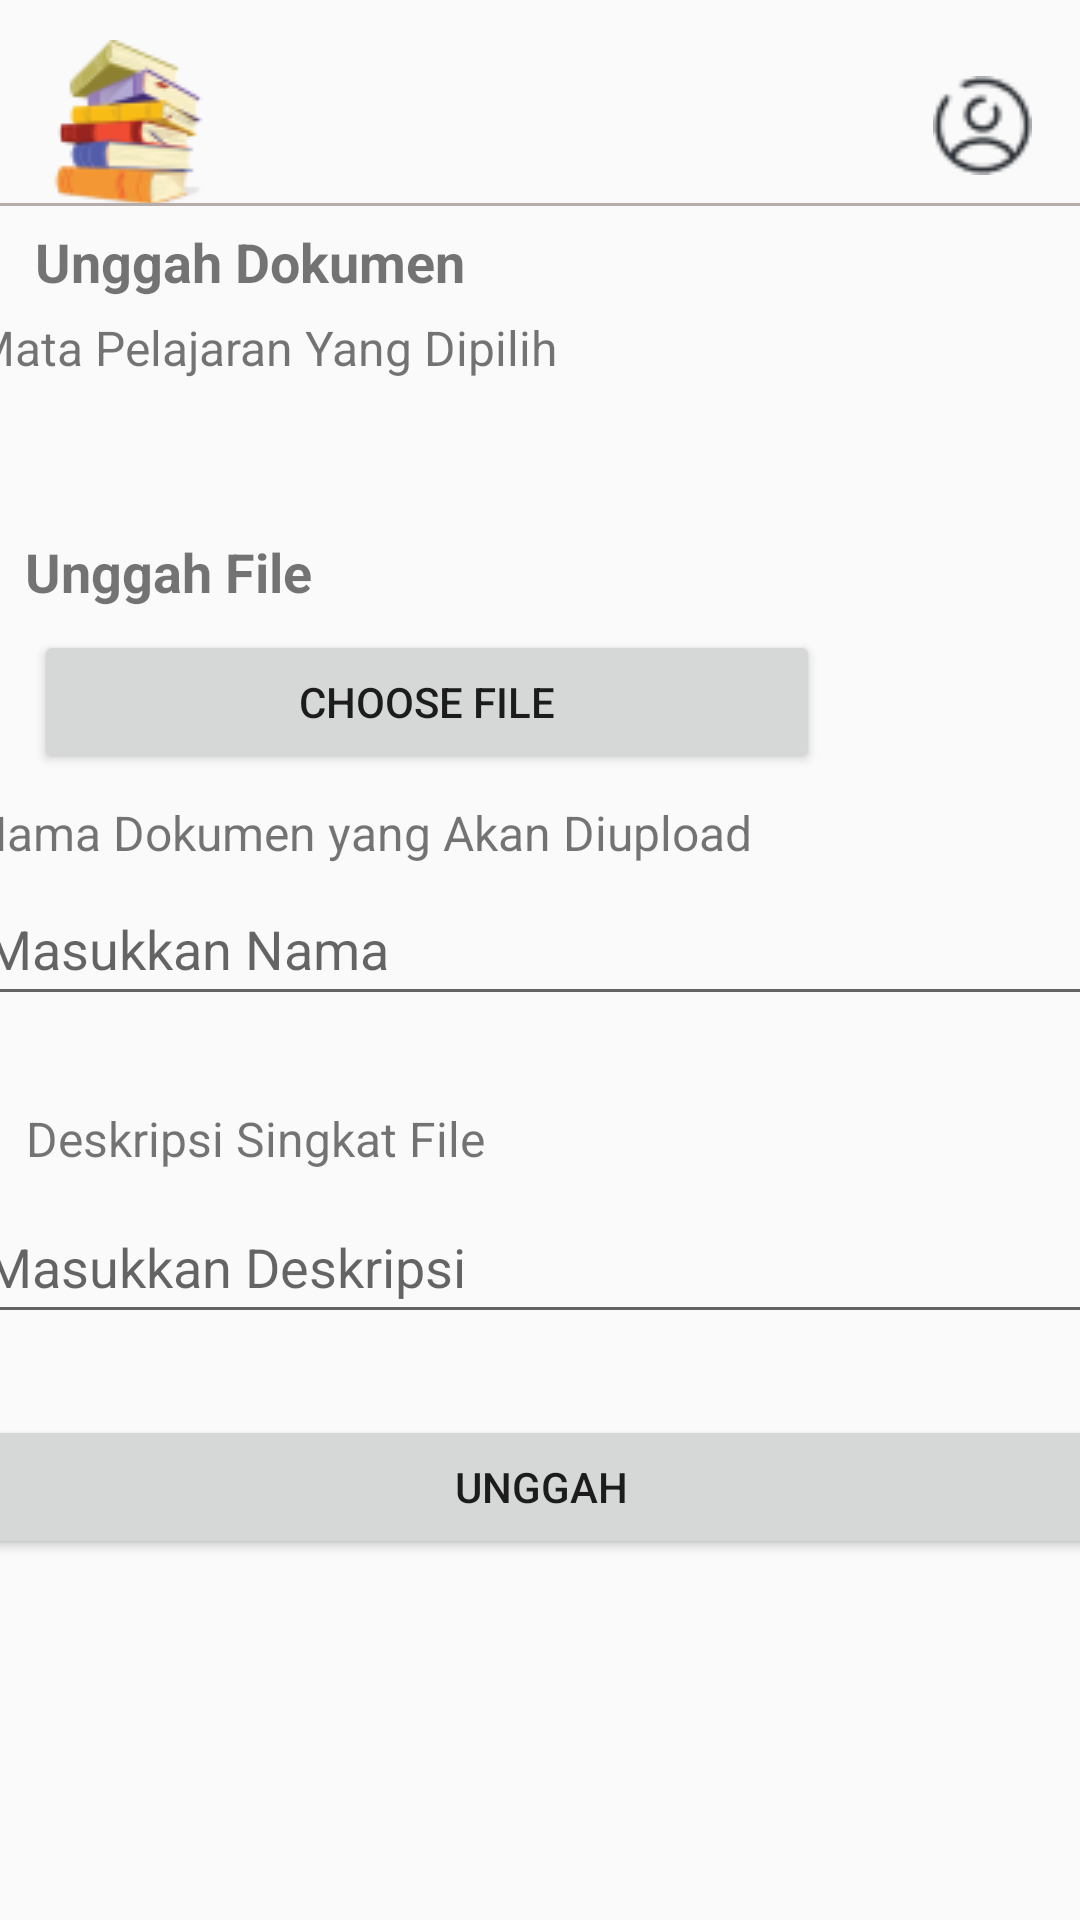

Where to tap for icons on this 1080 x 1920 app screen, as (x=x, y=y):
buku: (x=130, y=122)
profile: (x=982, y=125)
